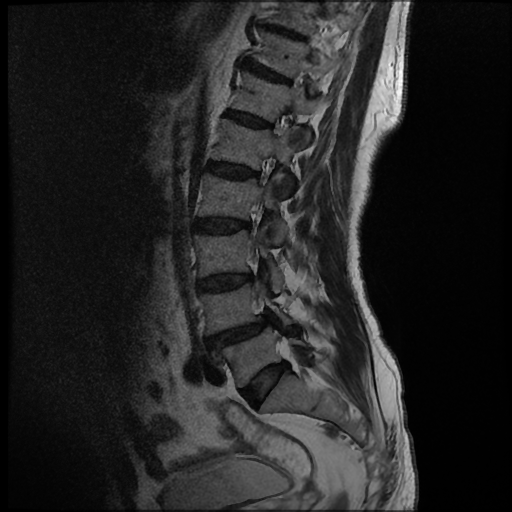RFS0: (242, 144, 284, 194)
